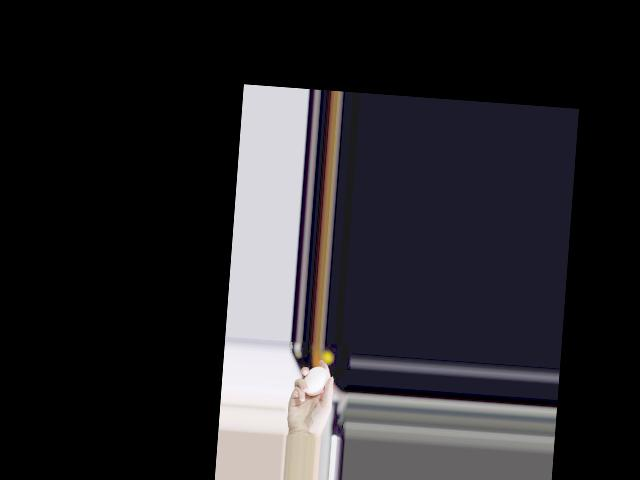egg: (303, 365, 329, 396)
